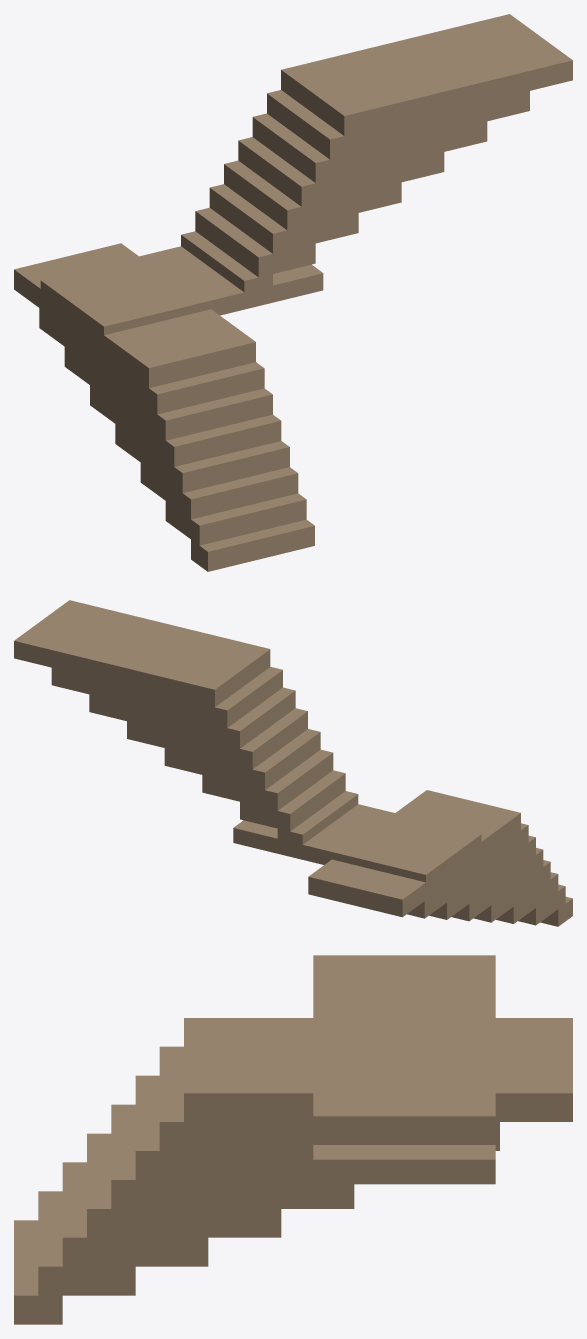
The model's file is iz2_stair_l_wood.glb.
3 renders of one model, top to bottom at view 1: azimuth 30°, elevation 25°; view 2: azimuth 150°, elevation 25°; view 3: azimuth 270°, elevation 25°, orthographic. The views are drawn at different scales.
Visible parts, largest first — view 1: flight_b_07, landing, flight_a_07, flight_b_06, flight_b_05, flight_a_06, flight_a_05, flight_b_04, flight_a_04, flight_b_03, flight_a_03, flight_a_02 (+5 smaller); view 2: flight_b_07, landing, flight_a_07, flight_b_06, flight_b_05, flight_b_04, flight_b_03, flight_b_02, flight_b_01, flight_a_06, flight_a_05, flight_b_00 (+5 smaller); view 3: flight_b_07, flight_a_07, flight_a_04, flight_a_03, landing, flight_a_05, flight_a_06, flight_a_02, flight_a_01, flight_a_00.
Boxes of the visible parts, x1=… form: flight_b_07: x1=281, y1=14, x2=572, y2=135; landing: x1=40, y1=246, x2=323, y2=340; flight_a_07: x1=14, y1=243, x2=255, y2=387; flight_b_06: x1=267, y1=90, x2=529, y2=159; flight_b_05: x1=252, y1=113, x2=487, y2=182; flight_a_06: x1=39, y1=308, x2=264, y2=414; flight_a_05: x1=64, y1=347, x2=272, y2=440; flight_b_04: x1=238, y1=137, x2=444, y2=206; flight_a_04: x1=90, y1=385, x2=281, y2=466; flight_b_03: x1=224, y1=160, x2=401, y2=230; flight_a_03: x1=115, y1=424, x2=289, y2=492; flight_a_02: x1=140, y1=463, x2=298, y2=519; flight_b_07: x1=14, y1=600, x2=270, y2=707; landing: x1=233, y1=804, x2=481, y2=882; flight_a_07: x1=308, y1=790, x2=520, y2=917; flight_b_06: x1=51, y1=667, x2=282, y2=727; flight_b_05: x1=89, y1=687, x2=295, y2=748; flight_b_04: x1=127, y1=708, x2=307, y2=769; flight_b_03: x1=164, y1=729, x2=320, y2=789; flight_b_02: x1=202, y1=749, x2=333, y2=810; flight_b_01: x1=240, y1=770, x2=345, y2=831; flight_a_06: x1=407, y1=823, x2=528, y2=918; flight_a_05: x1=429, y1=835, x2=535, y2=919; flight_b_00: x1=277, y1=791, x2=358, y2=851; flight_b_07: x1=313, y1=955, x2=495, y2=1144; flight_a_07: x1=184, y1=1018, x2=572, y2=1121; flight_a_04: x1=111, y1=1104, x2=354, y2=1208; flight_a_03: x1=87, y1=1133, x2=281, y2=1237; landing: x1=313, y1=1145, x2=495, y2=1184; flight_a_05: x1=135, y1=1075, x2=313, y2=1179; flight_a_06: x1=159, y1=1046, x2=499, y2=1150; flight_a_02: x1=62, y1=1162, x2=208, y2=1266; flight_a_01: x1=38, y1=1191, x2=135, y2=1295; flight_a_00: x1=14, y1=1220, x2=62, y2=1324.
Size of the model in its own units: 4.58 by 3 by 3.28.
